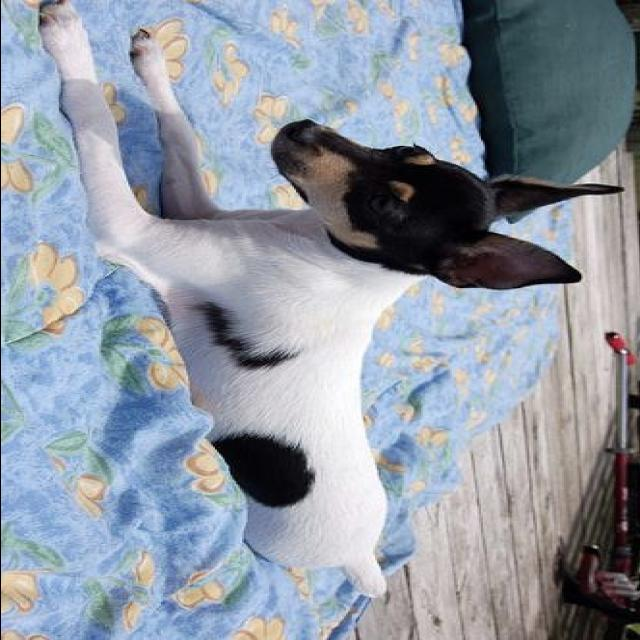toy_terrier: (38, 0, 624, 598)
